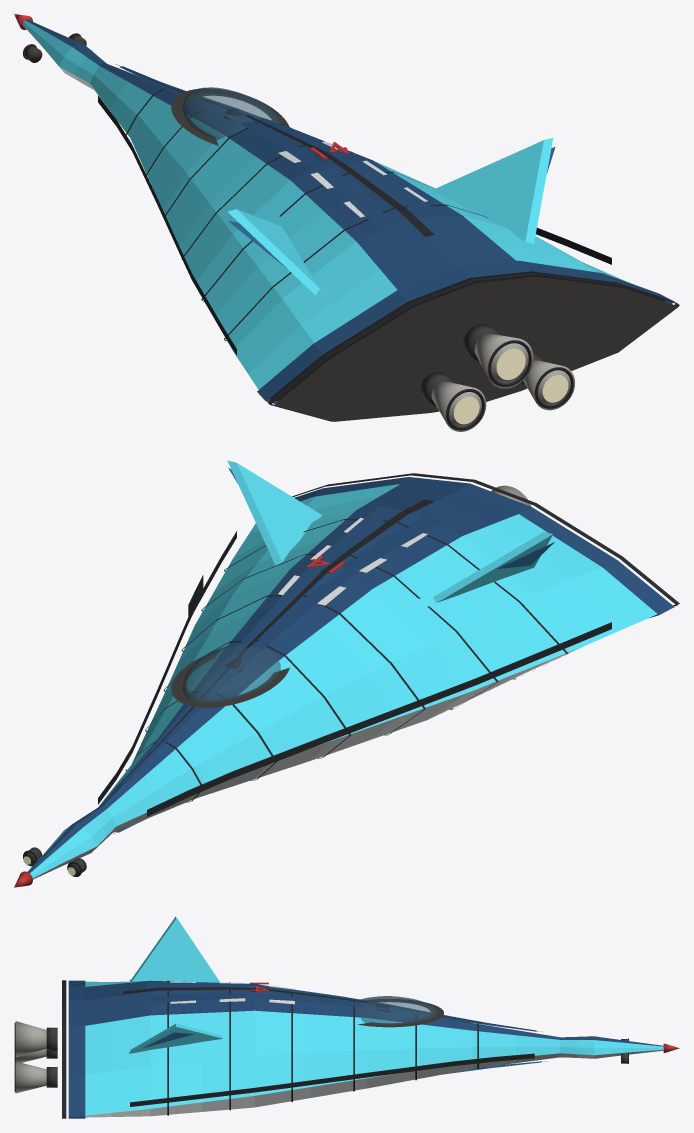
Rendered from Ship_PyramidLifter_290115.glb.
The picture shows the model from 3 angles, top to bottom: view 1: azimuth 30°, elevation 25°; view 2: azimuth 150°, elevation 25°; view 3: azimuth 270°, elevation 25°; orthographic projection. The views are drawn at different scales.
Visible parts, largest first — view 1: Fuselage_MainPyramidalLiftingBody, EngineDeck_AftFacetedDarkMountPlate, TailFin_Right_ShortCantedStabilizer, PaintDorsalSplit_PrimaryCentralArmor, EngineDeck_AftOuterArmorCollar, CanopyGlass_LowInsetSmokedDome, Nose_FacetedRamNeedle, TailFin_Left_ShortCantedStabilizer, EngineEmitter, CanopyFrame_LowInsetArmoredOvalRim, EngineDeck_AftDarkCompressionSeal, EngineBell_CenterUpper_BurnishedNozzle (+4 smaller); view 2: Fuselage_MainPyramidalLiftingBody, PaintDorsalSplit_PrimaryCentralArmor, EngineDeck_AftOuterArmorCollar, CanopyGlass_LowInsetSmokedDome, TailFin_Right_ShortCantedStabilizer, SideChinePanel_Left_LongDarkArmorJoint, Nose_FacetedRamNeedle, TailFin_Left_ShortCantedStabilizer, CanopyFrame_LowInsetArmoredOvalRim, HullLongitudinalSeam_DorsalRidgeDarkLine, EngineDeck_AftDarkCompressionSeal, SideChinePanel_Right_LongDarkArmorJoint; view 3: Fuselage_MainPyramidalLiftingBody, PaintDorsalSplit_PrimaryCentralArmor, TailFin_Left_ShortCantedStabilizer, EngineDeck_AftOuterArmorCollar, SideChinePanel_Right_LongDarkArmorJoint, CanopyGlass_LowInsetSmokedDome, Nose_FacetedRamNeedle, TailFin_Right_ShortCantedStabilizer, EngineBell_CenterUpper_BurnishedNozzle, HullLongitudinalSeam_DorsalRidgeDarkLine, EngineBell_RightLower_BurnishedNozzle, CanopyFrame_LowInsetArmoredOvalRim (+1 smaller).
Part boxes in pixels (x1=…): Fuselage_MainPyramidalLiftingBody: x1=90, y1=63, x2=666, y2=401; EngineDeck_AftFacetedDarkMountPlate: x1=274, y1=276, x2=678, y2=421; TailFin_Right_ShortCantedStabilizer: x1=431, y1=138, x2=553, y2=243; PaintDorsalSplit_PrimaryCentralArmor: x1=119, y1=66, x2=443, y2=230; EngineDeck_AftOuterArmorCollar: x1=257, y1=260, x2=674, y2=403; CanopyGlass_LowInsetSmokedDome: x1=182, y1=87, x2=280, y2=140; Nose_FacetedRamNeedle: x1=22, y1=19, x2=106, y2=89; TailFin_Left_ShortCantedStabilizer: x1=227, y1=209, x2=319, y2=295; EngineEmitter: x1=453, y1=348, x2=568, y2=424; CanopyFrame_LowInsetArmoredOvalRim: x1=171, y1=89, x2=289, y2=145; EngineDeck_AftDarkCompressionSeal: x1=267, y1=272, x2=679, y2=421; EngineBell_CenterUpper_BurnishedNozzle: x1=474, y1=333, x2=533, y2=388; Fuselage_MainPyramidalLiftingBody: x1=99, y1=484, x2=657, y2=832; PaintDorsalSplit_PrimaryCentralArmor: x1=119, y1=505, x2=443, y2=783; EngineDeck_AftOuterArmorCollar: x1=294, y1=477, x2=674, y2=618; CanopyGlass_LowInsetSmokedDome: x1=182, y1=643, x2=280, y2=702; TailFin_Right_ShortCantedStabilizer: x1=227, y1=460, x2=321, y2=565; SideChinePanel_Left_LongDarkArmorJoint: x1=147, y1=622, x2=611, y2=816; Nose_FacetedRamNeedle: x1=27, y1=806, x2=116, y2=879; TailFin_Left_ShortCantedStabilizer: x1=433, y1=532, x2=553, y2=602; CanopyFrame_LowInsetArmoredOvalRim: x1=171, y1=651, x2=289, y2=707; HullLongitudinalSeam_DorsalRidgeDarkLine: x1=115, y1=499, x2=433, y2=788; EngineDeck_AftDarkCompressionSeal: x1=292, y1=473, x2=679, y2=606; SideChinePanel_Right_LongDarkArmorJoint: x1=98, y1=531, x2=236, y2=804; Fuselage_MainPyramidalLiftingBody: x1=85, y1=980, x2=560, y2=1117; PaintDorsalSplit_PrimaryCentralArmor: x1=146, y1=982, x2=536, y2=1031; TailFin_Left_ShortCantedStabilizer: x1=130, y1=916, x2=219, y2=982; EngineDeck_AftOuterArmorCollar: x1=68, y1=980, x2=85, y2=1118; SideChinePanel_Right_LongDarkArmorJoint: x1=130, y1=1053, x2=534, y2=1106; CanopyGlass_LowInsetSmokedDome: x1=355, y1=996, x2=436, y2=1024; Nose_FacetedRamNeedle: x1=560, y1=1036, x2=663, y2=1058; TailFin_Right_ShortCantedStabilizer: x1=129, y1=1023, x2=222, y2=1053; EngineBell_CenterUpper_BurnishedNozzle: x1=15, y1=1021, x2=46, y2=1057; HullLongitudinalSeam_DorsalRidgeDarkLine: x1=122, y1=987, x2=541, y2=1031; EngineBell_RightLower_BurnishedNozzle: x1=15, y1=1061, x2=46, y2=1093; CanopyFrame_LowInsetArmoredOvalRim: x1=357, y1=999, x2=443, y2=1027.
Bounding box in the file's own units: 3.5 × 1.5 × 7.36.
